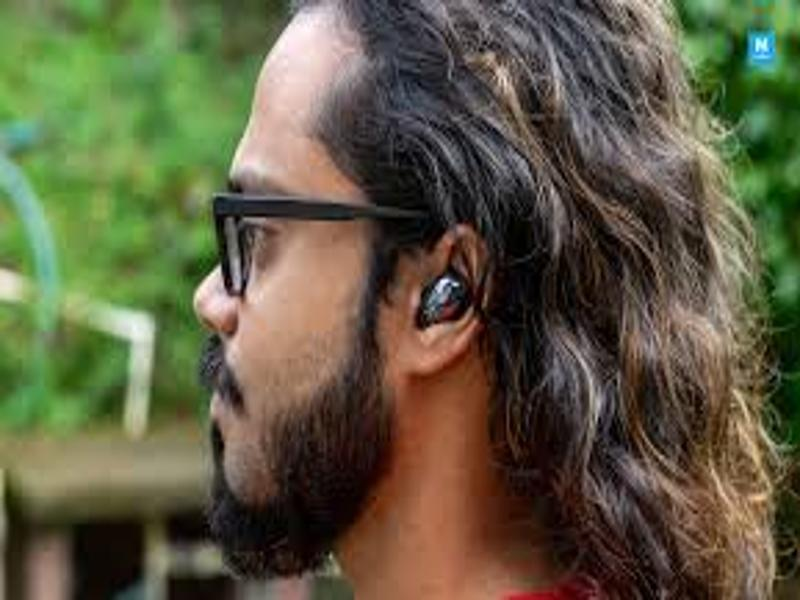headphone: (414, 274, 477, 327)
